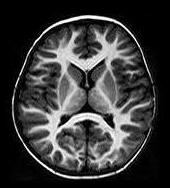Normal_Brain: (1, 6, 162, 188)
